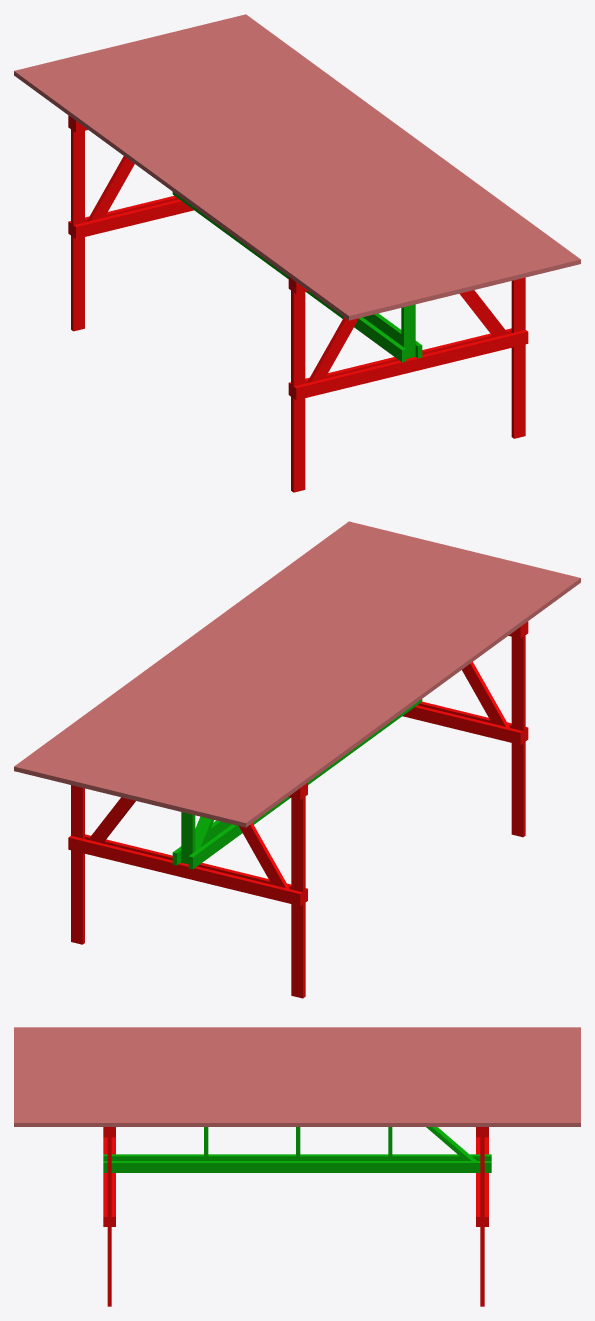
File: result.glb
3 views of the same model, one above another, from view 1: azimuth 30°, elevation 25°; view 2: azimuth 150°, elevation 25°; view 3: azimuth 270°, elevation 25° (orthographic). The views are drawn at different scales.
Visible parts, largest first — view 1: fc6ed486-b400-43c5-9bf6-e10d312b8aeb__Box, f4e585b8-a42d-48f9-a87a-6761718df0e6__undefined, c214cda8-650d-4089-b83e-dd7534daa08b__undefined, 049776d1-70b2-4216-9d0c-f49dccf5d501__undefined, 2493aa2f-184b-4671-a31f-130f39298738__undefined, afc90afc-c70e-459a-ab0d-1a217f03c293__undefined, 9a22cd35-beb7-4d5f-aa27-5d82ba7fb992__undefined, 25dca7fc-5dee-4a6f-a871-4db064d9efc8__undefined, 43194cf2-d8f8-4251-913c-68809e98093c__undefined, 6a485571-e0b1-46a1-8d81-d33343f5d329__undefined, 3b08d14c-8a12-4642-b142-41a886cc039e__undefined, 75845212-2077-4556-80dc-bbfbec7ac2a2__undefined (+20 smaller); view 2: fc6ed486-b400-43c5-9bf6-e10d312b8aeb__Box, 9a22cd35-beb7-4d5f-aa27-5d82ba7fb992__undefined, c214cda8-650d-4089-b83e-dd7534daa08b__undefined, 2493aa2f-184b-4671-a31f-130f39298738__undefined, f4e585b8-a42d-48f9-a87a-6761718df0e6__undefined, 25dca7fc-5dee-4a6f-a871-4db064d9efc8__undefined, 4b78dc30-b6c3-4858-bcd4-9697f959c86f__undefined, ad9ecb4e-f104-43fd-a731-213c64c90d5f__undefined, e62049e5-c5d4-4d11-9eb7-3db56fc04dd1__undefined, 049776d1-70b2-4216-9d0c-f49dccf5d501__undefined, 18c9e100-d7e6-4946-bb53-87cb940c9eda__undefined, 3b08d14c-8a12-4642-b142-41a886cc039e__undefined (+19 smaller); view 3: ad9ecb4e-f104-43fd-a731-213c64c90d5f__undefined, 8e456f5a-7ecb-4921-a710-69b6e96161a4__strutH, 43194cf2-d8f8-4251-913c-68809e98093c__undefined, 049776d1-70b2-4216-9d0c-f49dccf5d501__undefined, 7791dac6-ad47-41a2-b861-102792ab2c72__undefined, 6a485571-e0b1-46a1-8d81-d33343f5d329__undefined, 2493aa2f-184b-4671-a31f-130f39298738__undefined, 4b78dc30-b6c3-4858-bcd4-9697f959c86f__undefined, f4e585b8-a42d-48f9-a87a-6761718df0e6__undefined, 75845212-2077-4556-80dc-bbfbec7ac2a2__undefined, c214cda8-650d-4089-b83e-dd7534daa08b__undefined, fc6ed486-b400-43c5-9bf6-e10d312b8aeb__Box (+13 smaller).
Boxes of the visible parts, x1,y1,x2,y2 form: fc6ed486-b400-43c5-9bf6-e10d312b8aeb__Box: (14, 68, 360, 320); f4e585b8-a42d-48f9-a87a-6761718df0e6__undefined: (165, 31, 511, 283); c214cda8-650d-4089-b83e-dd7534daa08b__undefined: (223, 17, 569, 269); 049776d1-70b2-4216-9d0c-f49dccf5d501__undefined: (49, 59, 395, 311); 2493aa2f-184b-4671-a31f-130f39298738__undefined: (107, 45, 453, 297); afc90afc-c70e-459a-ab0d-1a217f03c293__undefined: (84, 51, 429, 303); 9a22cd35-beb7-4d5f-aa27-5d82ba7fb992__undefined: (142, 37, 488, 289); 25dca7fc-5dee-4a6f-a871-4db064d9efc8__undefined: (200, 23, 546, 274); 43194cf2-d8f8-4251-913c-68809e98093c__undefined: (37, 62, 383, 314); 6a485571-e0b1-46a1-8d81-d33343f5d329__undefined: (95, 48, 441, 300); 3b08d14c-8a12-4642-b142-41a886cc039e__undefined: (118, 42, 464, 294); 75845212-2077-4556-80dc-bbfbec7ac2a2__undefined: (211, 20, 557, 272); fc6ed486-b400-43c5-9bf6-e10d312b8aeb__Box: (234, 575, 580, 827); 9a22cd35-beb7-4d5f-aa27-5d82ba7fb992__undefined: (106, 544, 452, 796); c214cda8-650d-4089-b83e-dd7534daa08b__undefined: (25, 524, 371, 776); 2493aa2f-184b-4671-a31f-130f39298738__undefined: (141, 552, 487, 804); f4e585b8-a42d-48f9-a87a-6761718df0e6__undefined: (83, 538, 429, 790); 25dca7fc-5dee-4a6f-a871-4db064d9efc8__undefined: (48, 530, 394, 782); 4b78dc30-b6c3-4858-bcd4-9697f959c86f__undefined: (95, 541, 441, 793); ad9ecb4e-f104-43fd-a731-213c64c90d5f__undefined: (14, 521, 360, 773); e62049e5-c5d4-4d11-9eb7-3db56fc04dd1__undefined: (223, 572, 568, 824); 049776d1-70b2-4216-9d0c-f49dccf5d501__undefined: (199, 566, 545, 818); 18c9e100-d7e6-4946-bb53-87cb940c9eda__undefined: (176, 561, 522, 813); 3b08d14c-8a12-4642-b142-41a886cc039e__undefined: (130, 550, 476, 802); ad9ecb4e-f104-43fd-a731-213c64c90d5f__undefined: (14, 1118, 580, 1126); 8e456f5a-7ecb-4921-a710-69b6e96161a4__strutH: (103, 1161, 491, 1172); 43194cf2-d8f8-4251-913c-68809e98093c__undefined: (14, 1036, 580, 1041); 049776d1-70b2-4216-9d0c-f49dccf5d501__undefined: (14, 1041, 580, 1046); 7791dac6-ad47-41a2-b861-102792ab2c72__undefined: (14, 1046, 580, 1051); 6a485571-e0b1-46a1-8d81-d33343f5d329__undefined: (14, 1060, 580, 1065); 2493aa2f-184b-4671-a31f-130f39298738__undefined: (14, 1065, 580, 1070); 4b78dc30-b6c3-4858-bcd4-9697f959c86f__undefined: (14, 1084, 580, 1089); f4e585b8-a42d-48f9-a87a-6761718df0e6__undefined: (14, 1089, 580, 1094); 75845212-2077-4556-80dc-bbfbec7ac2a2__undefined: (14, 1108, 580, 1113); c214cda8-650d-4089-b83e-dd7534daa08b__undefined: (14, 1113, 580, 1118); fc6ed486-b400-43c5-9bf6-e10d312b8aeb__Box: (14, 1027, 580, 1031).
Size of the model in its own units: 800 by 715 by 2000.
